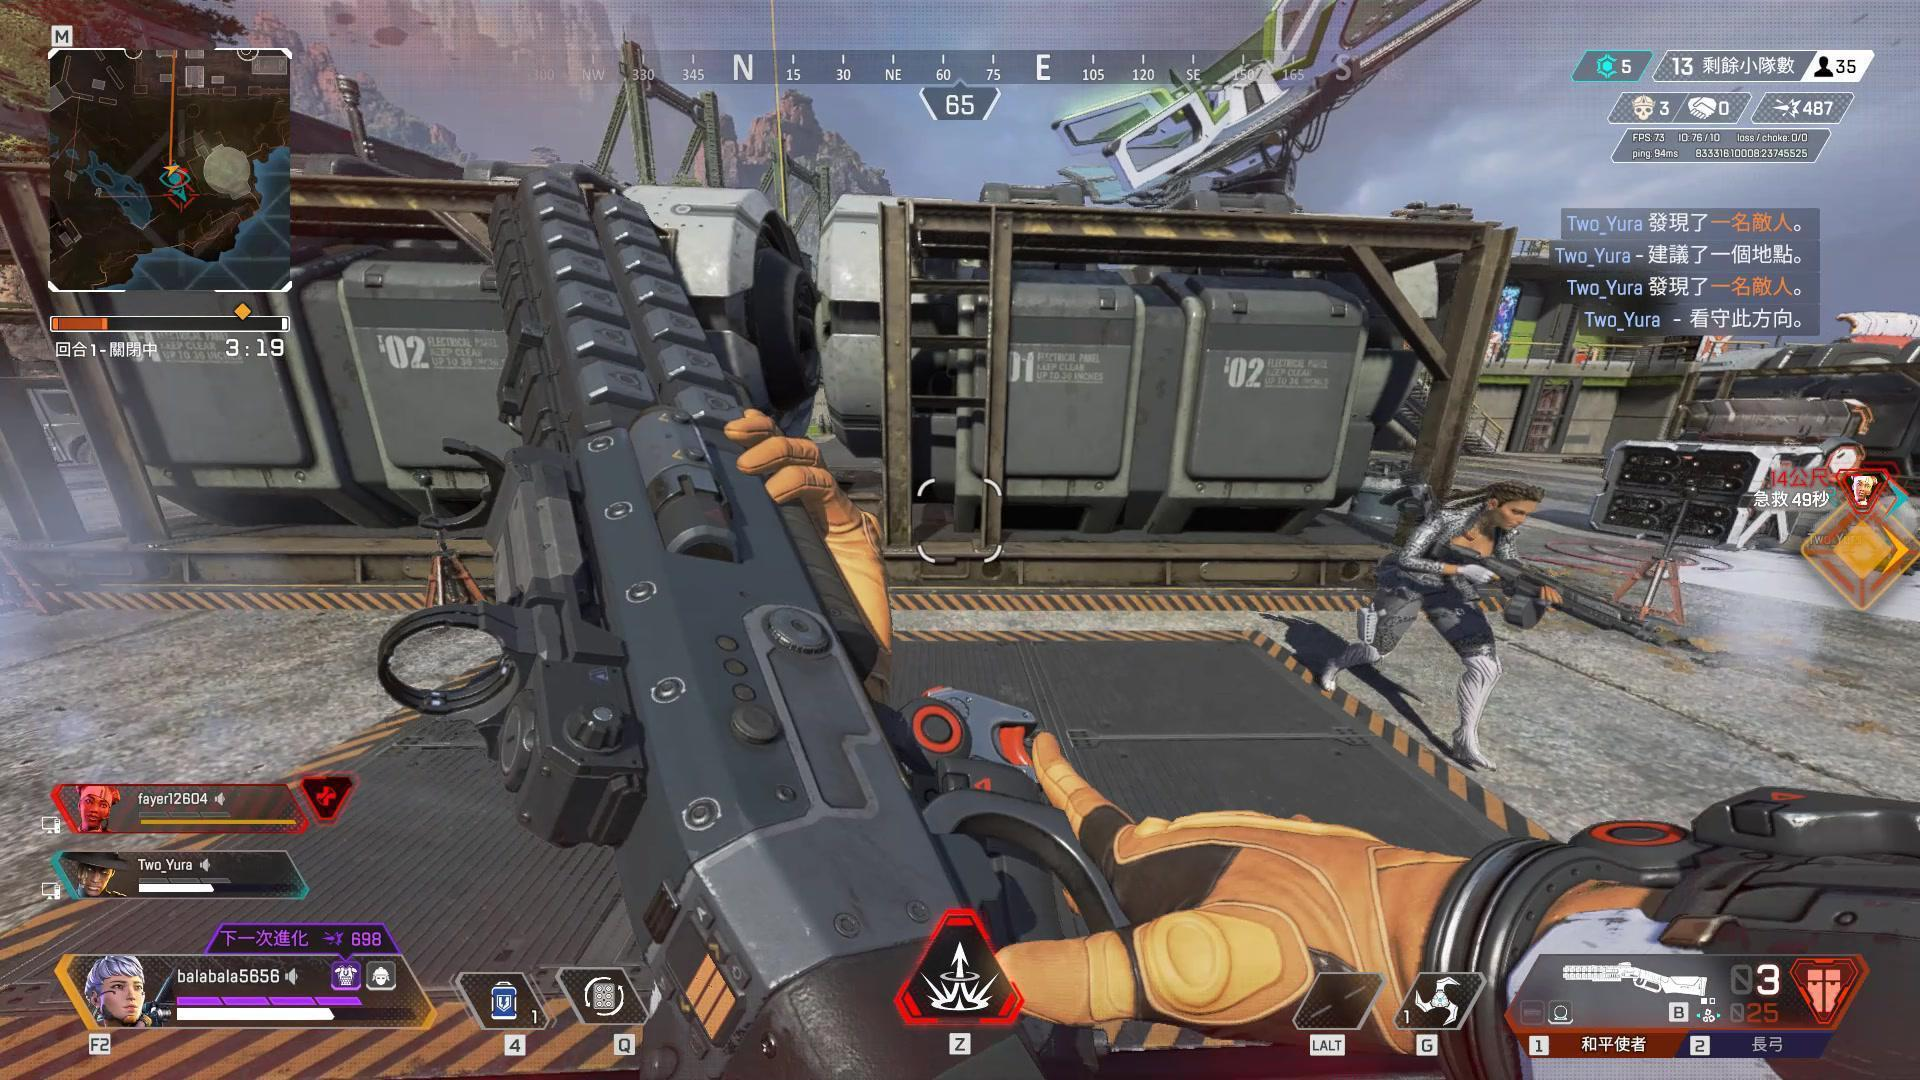avatar: (1354, 479, 1548, 774)
